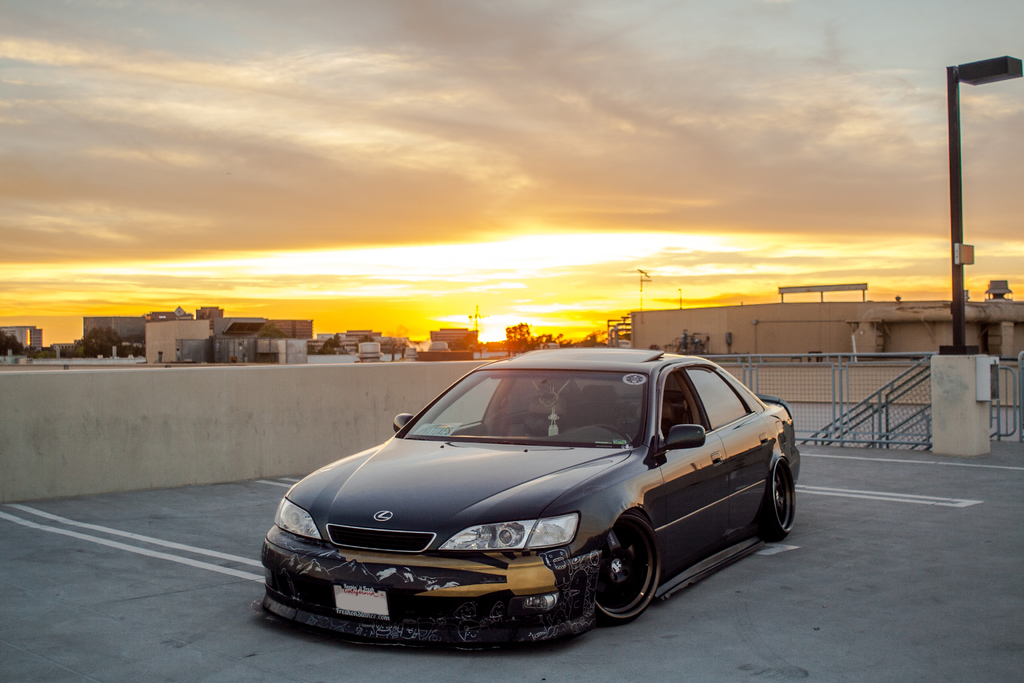Car: (256, 344, 807, 654)
